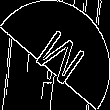M_SW: (25, 21, 85, 89)
